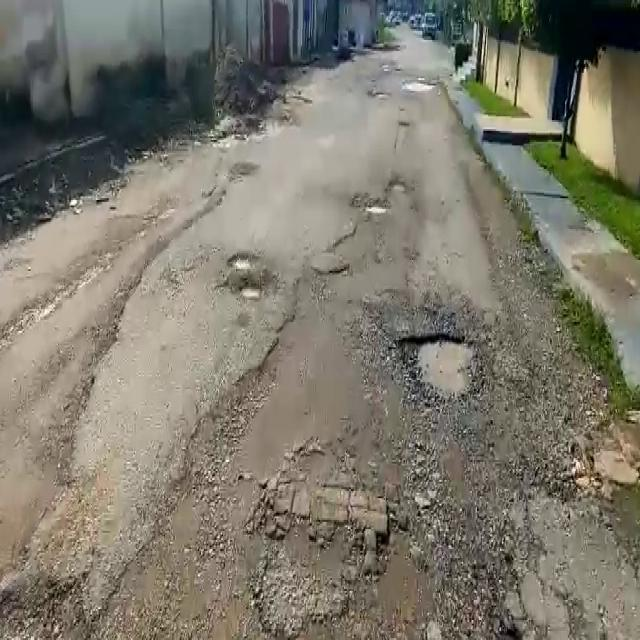pothole: (395, 334, 482, 404), (227, 250, 258, 271), (364, 200, 389, 217), (240, 283, 263, 300), (388, 180, 408, 195)
